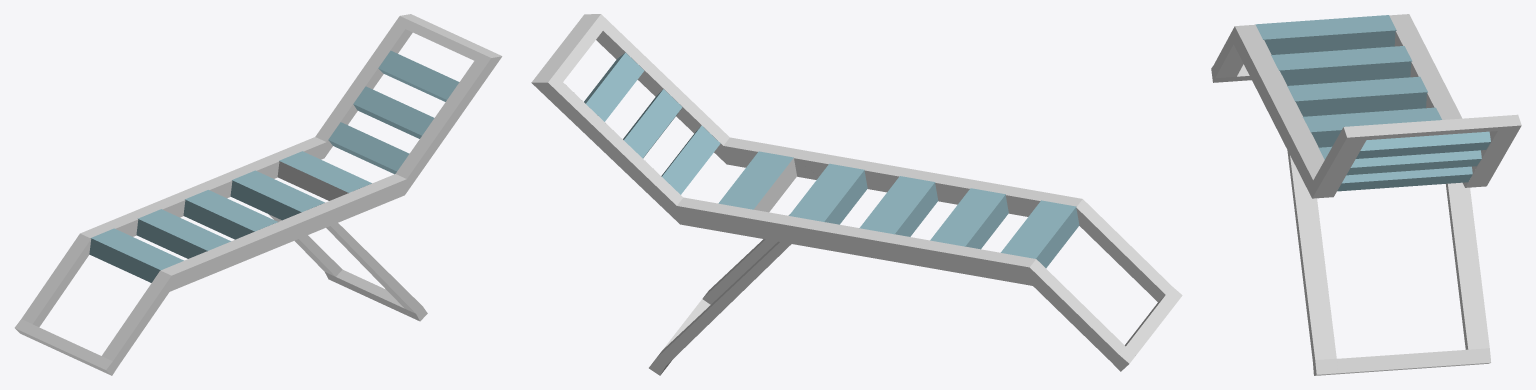
File: bay-sunbed.lod0.glb
3 views of the same model, side by side, from view 1: azimuth 30°, elevation 25°; view 2: azimuth 150°, elevation 25°; view 3: azimuth 270°, elevation 25° (orthographic). The views are drawn at different scales.
Parts seen in each view (by area): view 1: LB2-material; view 2: LB2-material; view 3: LB2-material.
Boxes of the visible parts, x1,y1,x2,y2 form: LB2-material: (14,14,502,375); LB2-material: (531,14,1182,375); LB2-material: (1211,14,1521,375).
Size of the model in its own units: 1.9 by 0.9088 by 0.8436.
